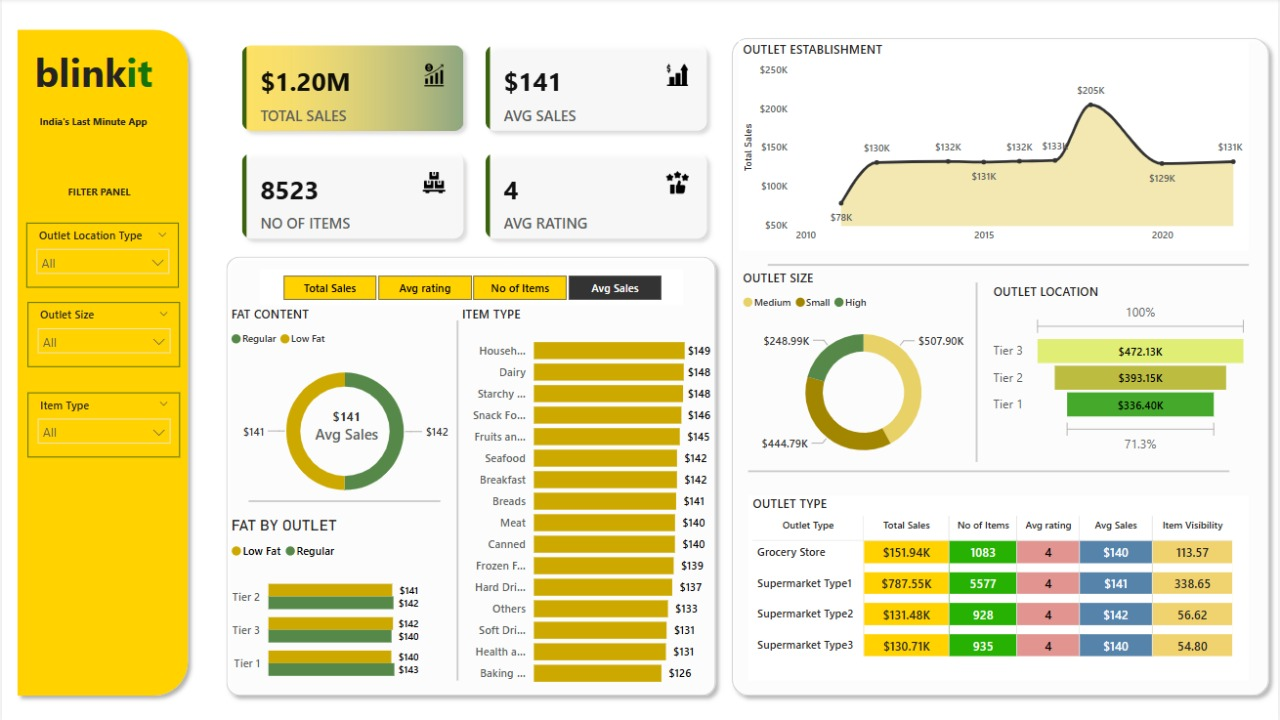

The dashboard page shown, as its layout file describes it:
{"tool":"powerbi","page":{"name":"Page 1","canvas":[1400,800],"ordinal":0},"visuals":[{"type":"shape","box":[8,25.5,205.1,749.3],"z":0},{"type":"textbox","box":[30.8,46.9,151.5,73.7],"z":1000},{"type":"textbox","box":[36.2,120.6,140.8,33.5],"z":2000},{"type":"shape","box":[237.3,274.8,555,500],"z":3000},{"type":"donutChart","title":"FAT CONTENT","fields":{"Y":["BlinkIT Grocery Data.Avg Sales"],"Category":["BlinkIT Grocery Data.Item Fat Content"]},"box":[246.7,337.8,260.1,230.6],"z":4000},{"type":"slicer","fields":{"Values":["Metrics.Metrics"]},"box":[282.8,297.6,465.1,40.2],"z":5000},{"type":"cardVisual","fields":{"Data":["BlinkIT Grocery Data.Avg Sales"]},"box":[312.3,433,132.7,71],"z":6000},{"type":"clusteredBarChart","title":"FAT BY OUTLET","fields":{"Y":["BlinkIT Grocery Data.Avg Sales"],"Category":["BlinkIT Grocery Data.Outlet Location Type"],"Series":["BlinkIT Grocery Data.Item Fat Content"]},"box":[246.7,568.4,215.8,197.1],"z":7000},{"type":"shape","box":[270.8,545.6,210.5,13.4],"z":8000},{"type":"shape","box":[493.3,353.9,13.4,395.4],"z":9000},{"type":"barChart","title":"ITEM TYPE","fields":{"Y":["BlinkIT Grocery Data.Avg Sales"],"Category":["BlinkIT Grocery Data.Item Type"]},"box":[500,337.8,282.8,427.6],"z":10000},{"type":"shape","box":[792.2,34.9,607.2,740],"z":11000},{"type":"lineChart","title":"OUTLET ESTABLISHMENT","fields":{"Category":["BlinkIT Grocery Data.Outlet Establishment Year"],"Y":["BlinkIT Grocery Data.Total Sales"]},"box":[808.3,46.9,560.3,230.6],"z":12000},{"type":"shape","box":[840.5,282.8,528.2,20.1],"z":13000},{"type":"donutChart","title":"OUTLET SIZE","fields":{"Y":["BlinkIT Grocery Data.Total Sales"],"Category":["BlinkIT Grocery Data.Outlet Size"]},"box":[808.3,297.6,274.8,225.2],"z":14000},{"type":"shape","box":[1063,312.3,13.4,197.1],"z":15000},{"type":"funnel","title":"OUTLET LOCATION","fields":{"Category":["BlinkIT Grocery Data.Outlet Location Type"],"Y":["BlinkIT Grocery Data.Total Sales"]},"box":[1083.1,312.3,289.5,191.7],"z":16000},{"type":"shape","box":[819,509.4,528.2,20.1],"z":17000},{"type":"cardVisual","fields":{"Data":["BlinkIT Grocery Data.Total Sales","BlinkIT Grocery Data.Avg Sales","BlinkIT Grocery Data.No of Items","BlinkIT Grocery Data.Avg rating"]},"box":[246.7,34.9,545.6,248],"z":18000},{"type":"pivotTable","title":"OUTLET TYPE","fields":{"Rows":["BlinkIT Grocery Data.Outlet Type"],"Values":["BlinkIT Grocery Data.Total Sales","BlinkIT Grocery Data.No of Items","BlinkIT Grocery Data.Avg rating","BlinkIT Grocery Data.Avg Sales","Sum(BlinkIT Grocery Data.Item Visibility)"]},"box":[819,545.6,549.6,203.8],"z":19000},{"type":"slicer","fields":{"Values":["BlinkIT Grocery Data.Outlet Location Type"]},"box":[26.8,246.7,167.6,71],"z":20000},{"type":"slicer","fields":{"Values":["BlinkIT Grocery Data.Outlet Size"]},"box":[28.2,333.8,167.6,71],"z":21000},{"type":"slicer","fields":{"Values":["BlinkIT Grocery Data.Item Type"]},"box":[28.2,433,167.6,71],"z":22000},{"type":"textbox","box":[59,197.1,95.2,37.5],"z":23000}]}

Visuals, with their boxes in screenshot pixels (x1, y1, x2, y2), scaled from the page's 1400x800 canvas onto the 1280x720 screenshot:
shape: [left=7, top=23, right=195, bottom=697]
textbox: [left=28, top=42, right=167, bottom=109]
textbox: [left=33, top=109, right=162, bottom=139]
shape: [left=217, top=247, right=724, bottom=697]
"FAT CONTENT" donutChart: [left=226, top=304, right=463, bottom=512]
slicer - Metrics.Metrics: [left=259, top=268, right=684, bottom=304]
cardVisual - BlinkIT Grocery Data.Avg Sales: [left=286, top=390, right=407, bottom=454]
"FAT BY OUTLET" clusteredBarChart: [left=226, top=512, right=423, bottom=689]
shape: [left=248, top=491, right=440, bottom=503]
shape: [left=451, top=319, right=463, bottom=674]
"ITEM TYPE" barChart: [left=457, top=304, right=716, bottom=689]
shape: [left=724, top=31, right=1279, bottom=697]
"OUTLET ESTABLISHMENT" lineChart: [left=739, top=42, right=1251, bottom=250]
shape: [left=768, top=255, right=1251, bottom=273]
"OUTLET SIZE" donutChart: [left=739, top=268, right=990, bottom=471]
shape: [left=972, top=281, right=984, bottom=458]
"OUTLET LOCATION" funnel: [left=990, top=281, right=1255, bottom=454]
shape: [left=749, top=458, right=1232, bottom=477]
cardVisual - BlinkIT Grocery Data.Total Sales x BlinkIT Grocery Data.Avg Sales: [left=226, top=31, right=724, bottom=255]
"OUTLET TYPE" pivotTable: [left=749, top=491, right=1251, bottom=674]
slicer - BlinkIT Grocery Data.Outlet Location Type: [left=25, top=222, right=178, bottom=286]
slicer - BlinkIT Grocery Data.Outlet Size: [left=26, top=300, right=179, bottom=364]
slicer - BlinkIT Grocery Data.Item Type: [left=26, top=390, right=179, bottom=454]
textbox: [left=54, top=177, right=141, bottom=211]
